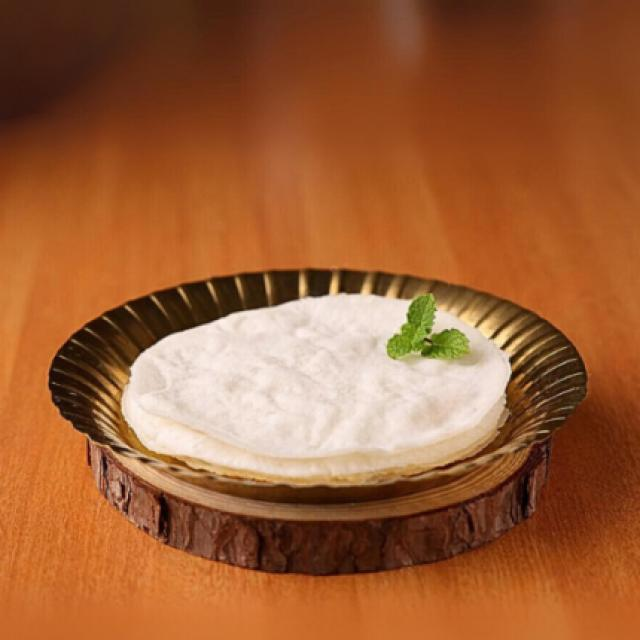RICE BHAKRI: (122, 295, 509, 485)
